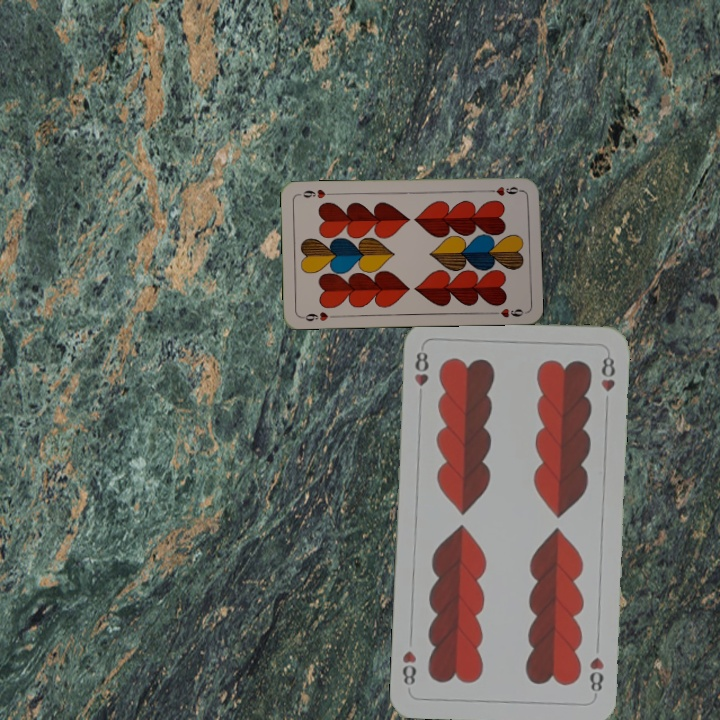H8: (585, 653, 606, 699), (411, 347, 431, 389)
H9: (298, 308, 338, 324), (484, 182, 524, 198)
